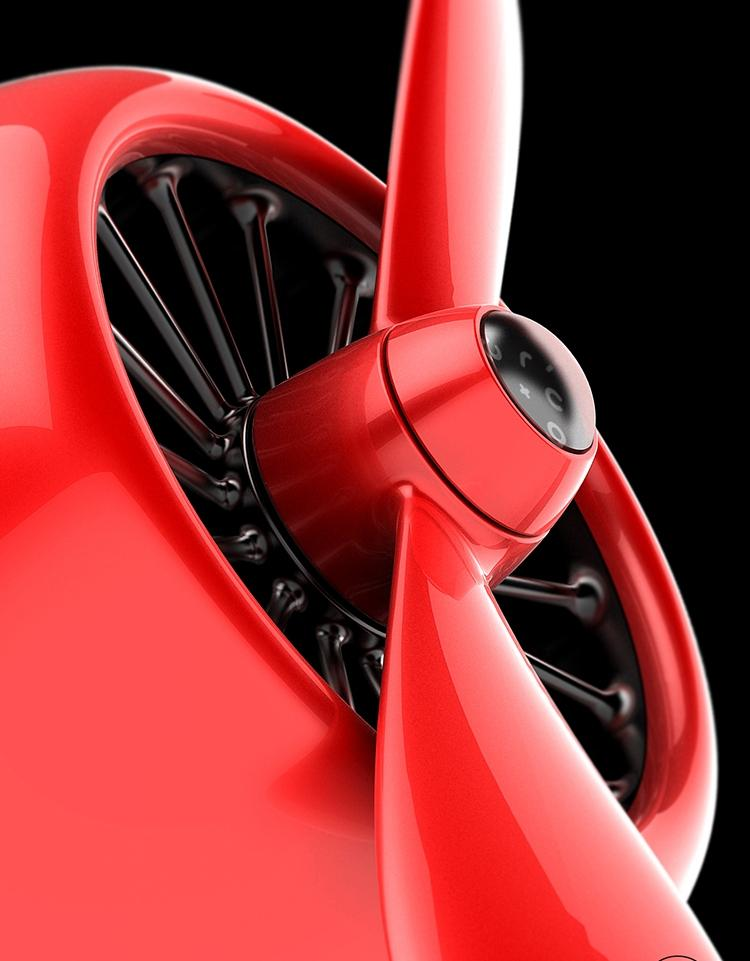Propeller: (224, 7, 730, 960)
